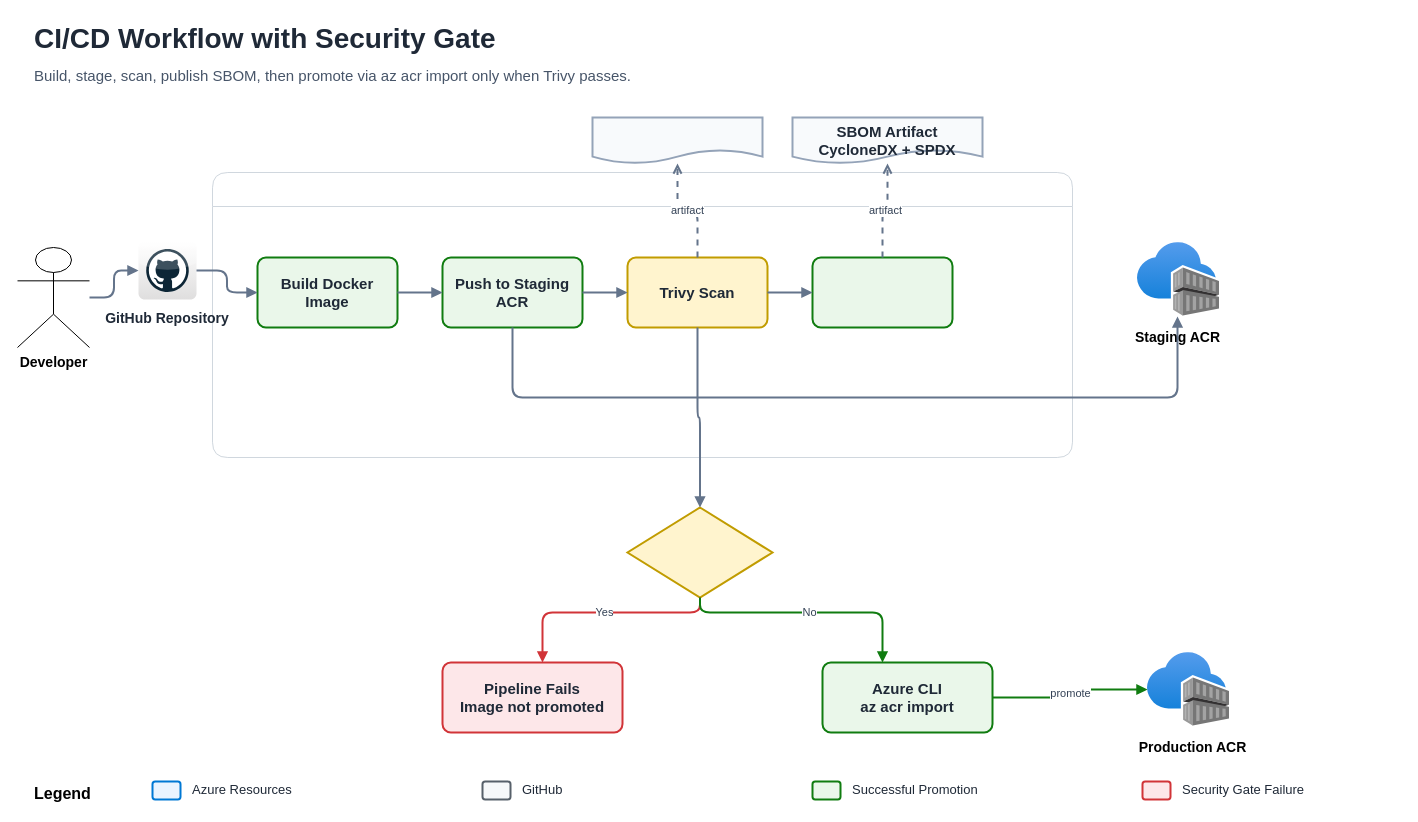
Image size: 1418x822. Some labels were removed from this diagram. The shapes that lost their labels are listed below. From the top down, each one's box as (x1, y1, x2, y2) in pixels, then its label:
(591, 116, 763, 164): Trivy JSON Report
(811, 256, 953, 328): Generate SBOM
(212, 172, 1072, 458): GitHub Actions Pipeline
(626, 506, 773, 598): Critical / High?
